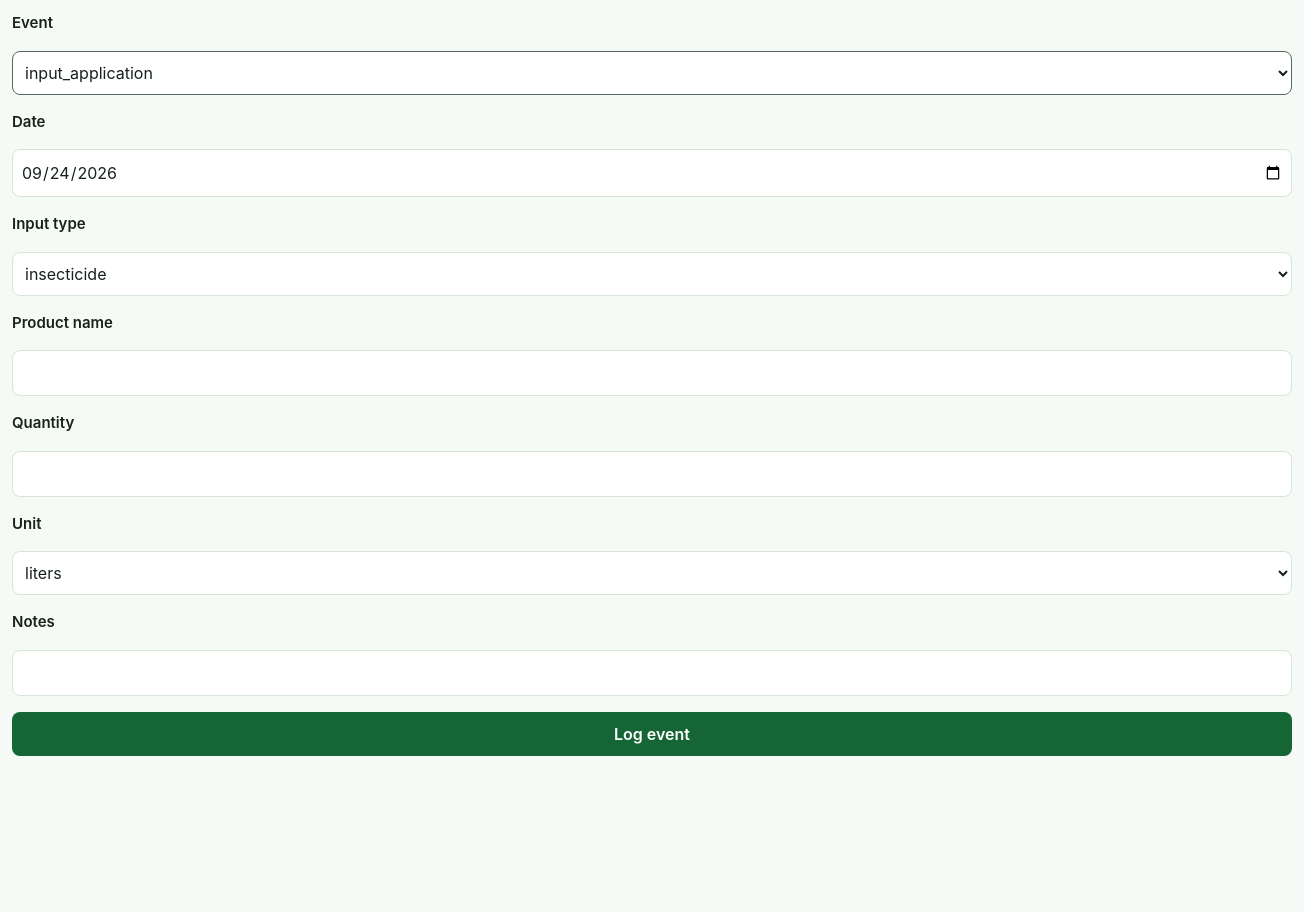
Test: EventForm › does not show input-application fields for a plot planting event
This screenshot has width=1304, height=912.
Select "planting" in the dropdown labelled "Event" at coordinates (652, 72), box [12,50,1292,94]
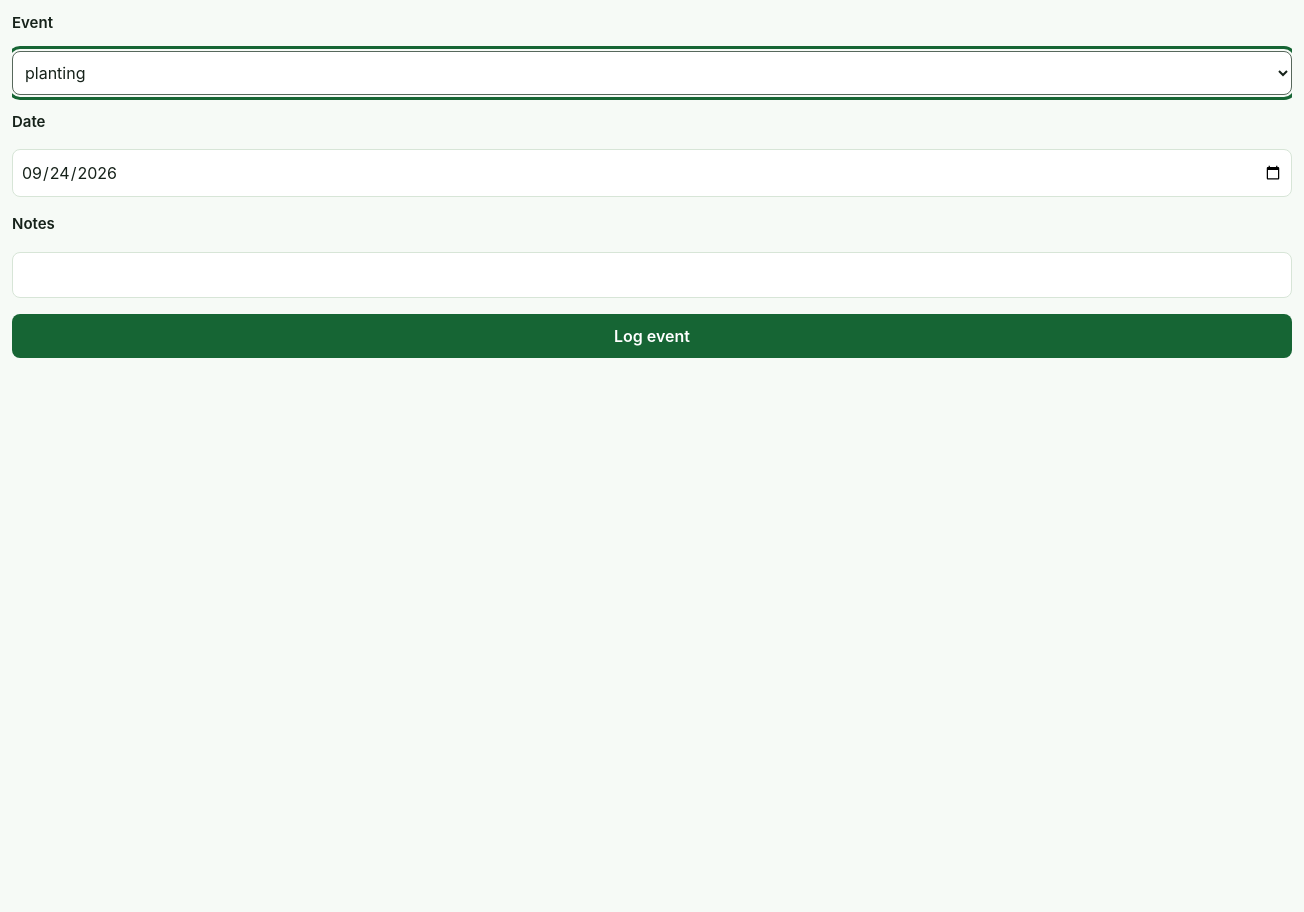
Expected: the label labelled "Input type" is gone
